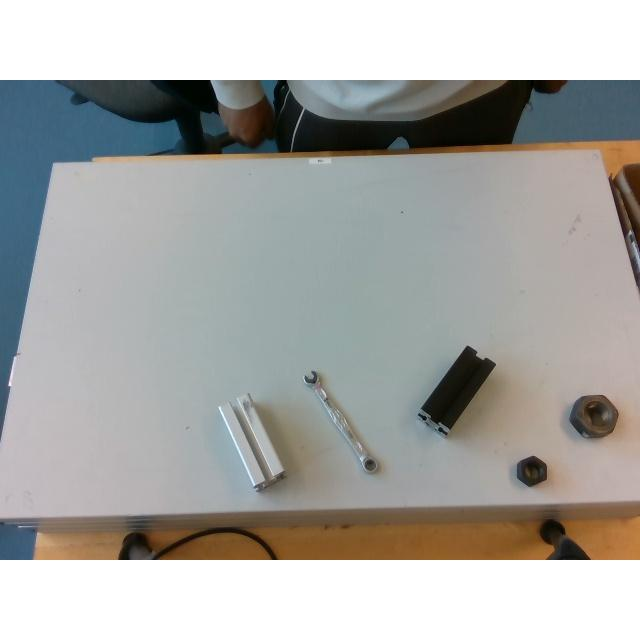M20: (516, 456, 548, 486)
M30: (570, 395, 618, 437)
S40_40_B: (418, 346, 494, 436)
S40_40_G: (218, 394, 284, 491)
Wrench: (302, 370, 378, 474)
